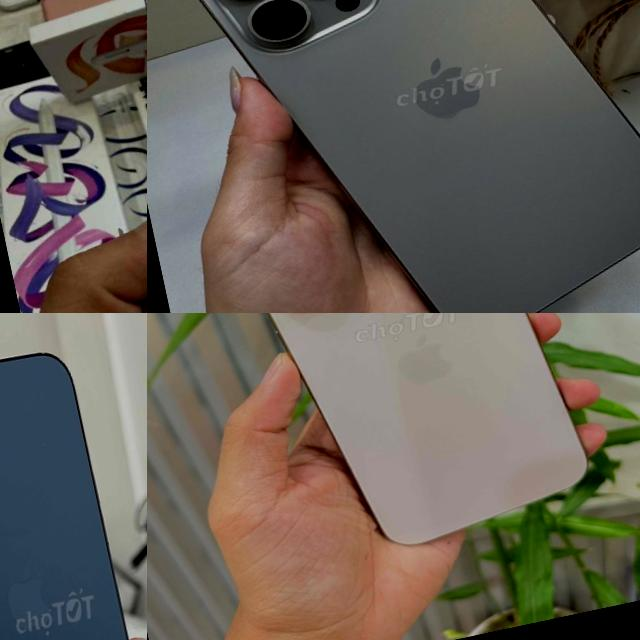gen_12_13: (0, 337, 147, 640)
gen_16: (200, 0, 640, 313), (267, 313, 586, 543)
gen_17: (110, 0, 147, 313)
